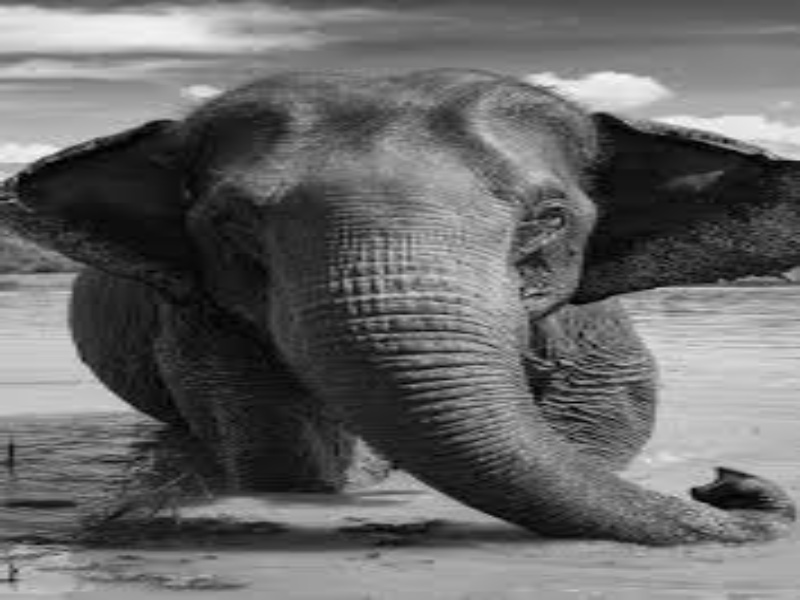elephant: (16, 33, 779, 554)
